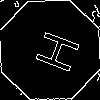H: (25, 25, 81, 75)
